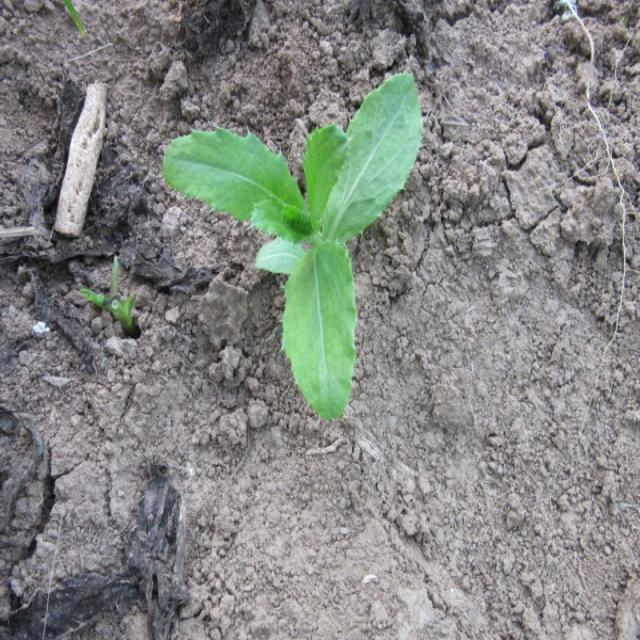cs: (162, 68, 422, 423)
